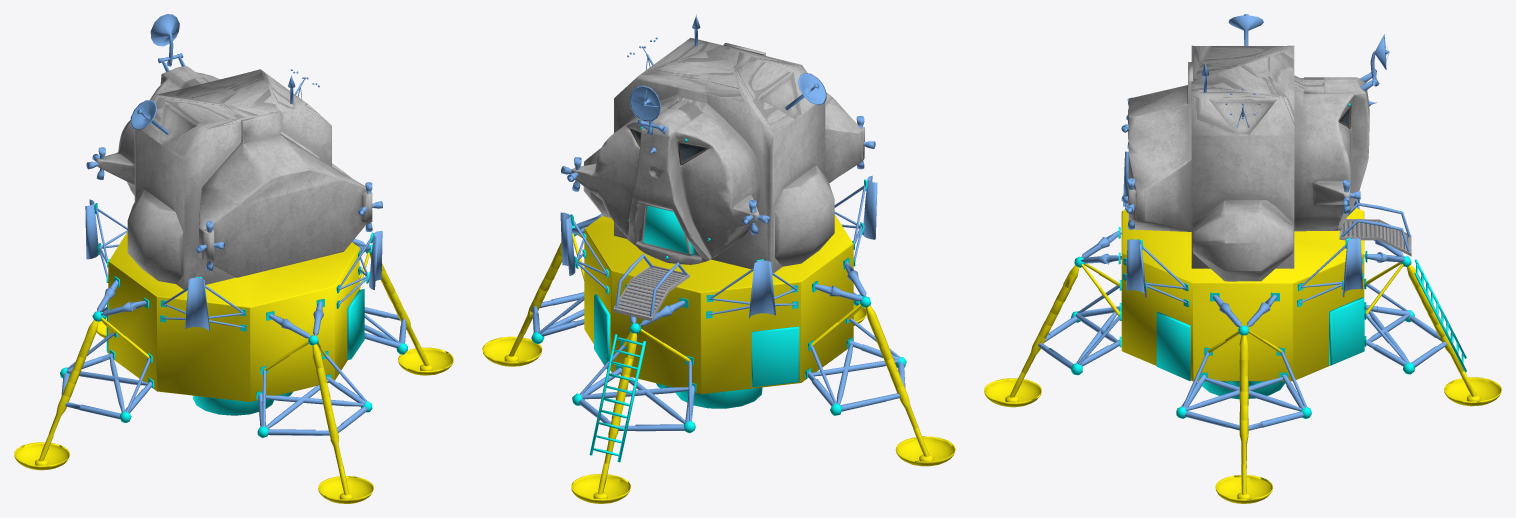
File: modulo lunare.fbx
3 renders of one model, left to right at view 1: azimuth 30°, elevation 25°; view 2: azimuth 150°, elevation 25°; view 3: azimuth 270°, elevation 25°, orthographic. The views are drawn at different scales.
Visible parts, largest first — view 1: Window; view 2: Window; view 3: Window.
Boxes of the visible parts, left/top/right/bottom form: Window: left=14, top=14, right=453, bottom=503; Window: left=482, top=14, right=955, bottom=503; Window: left=984, top=14, right=1501, bottom=503.
Bounding box in the file's own units: 7351 × 5734 × 7354.
